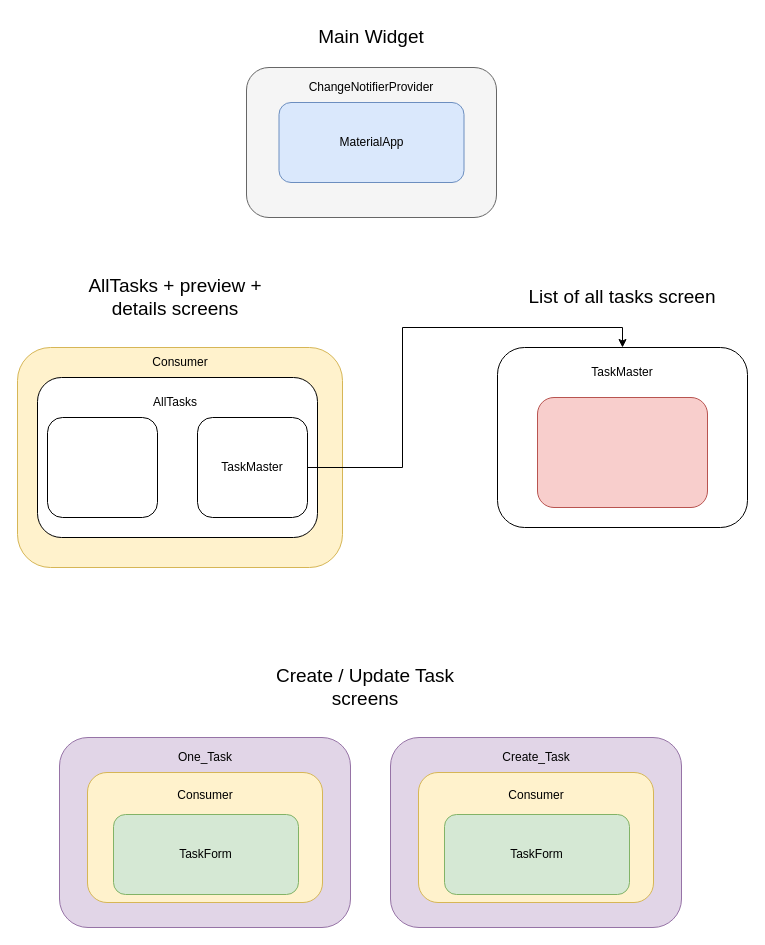
The diagram is 765 pixels wide and 945 high, and some of its shapes have lost their labels. Here are the shapes that lost their labels. From the top down, the centre of each, then its label:
the point at 102,467: TaskDetails
the point at 622,452: TaskPreview : Wrong call of TasksCollection() (2x times)
